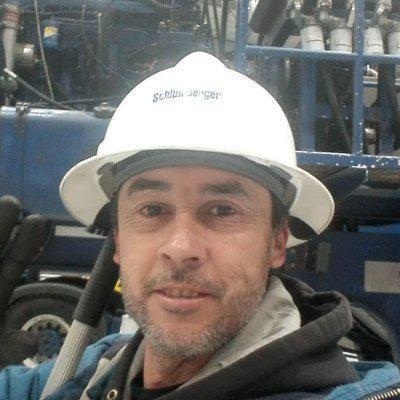helmet: (58, 51, 335, 232)
